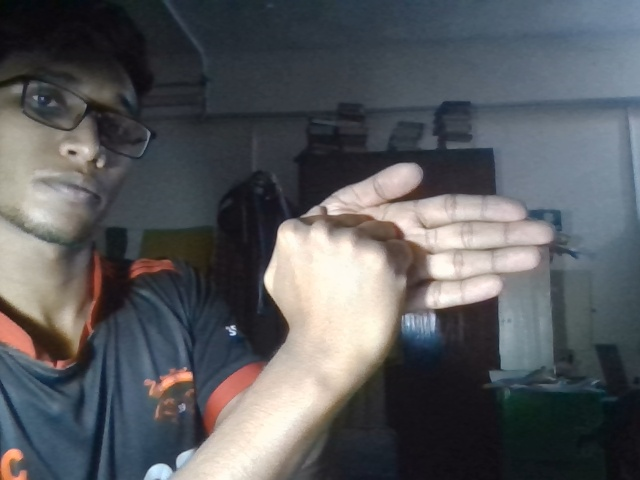b: (264, 161, 558, 338)
